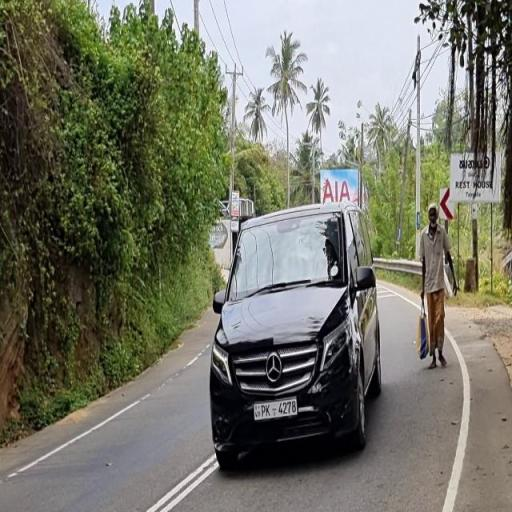double_white_line: (146, 454, 216, 510)
